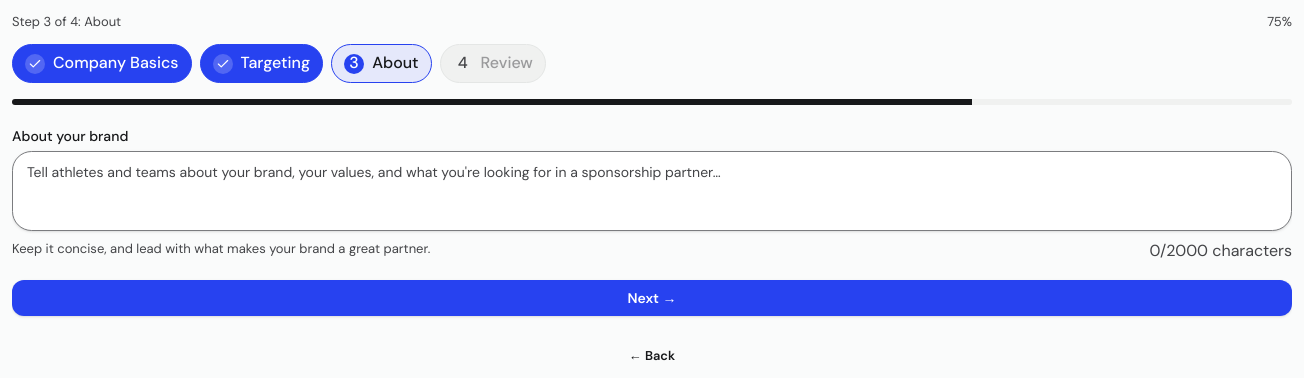
BrandProfileForm › step 3 shows a live character counter and formatting hint for the description
Expected: the text "0/2000 characters" is shown, [1150,239,1292,264]
Expected: the text "Keep it concise" is shown, [12,240,430,257]
Type "Hello" into the text box labelled "About your brand" at (652, 191), box [12,151,1292,231]
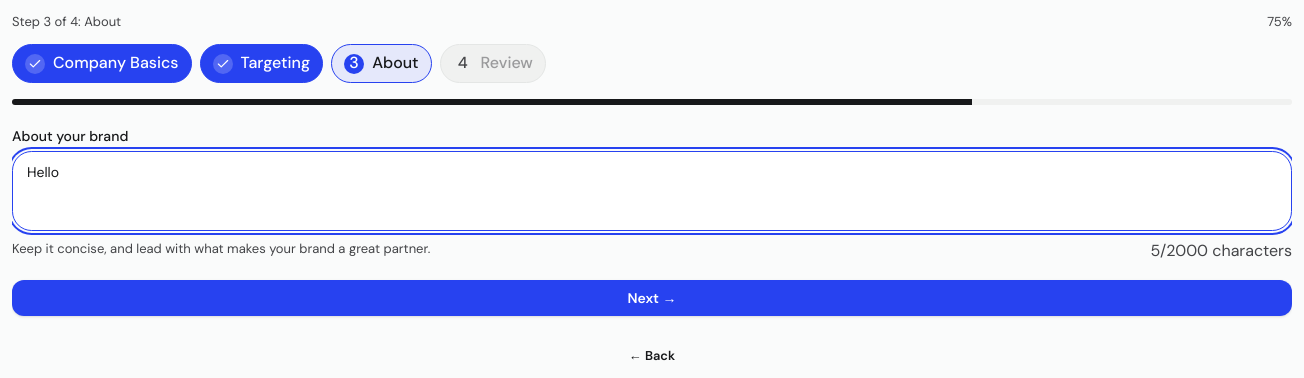
Expected: the text "5/2000 characters" is shown, [1151,239,1292,264]
